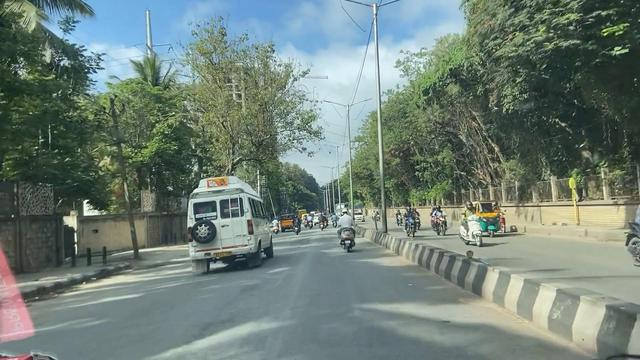HMV: (186, 170, 280, 277)
LMV: (331, 217, 363, 253)
